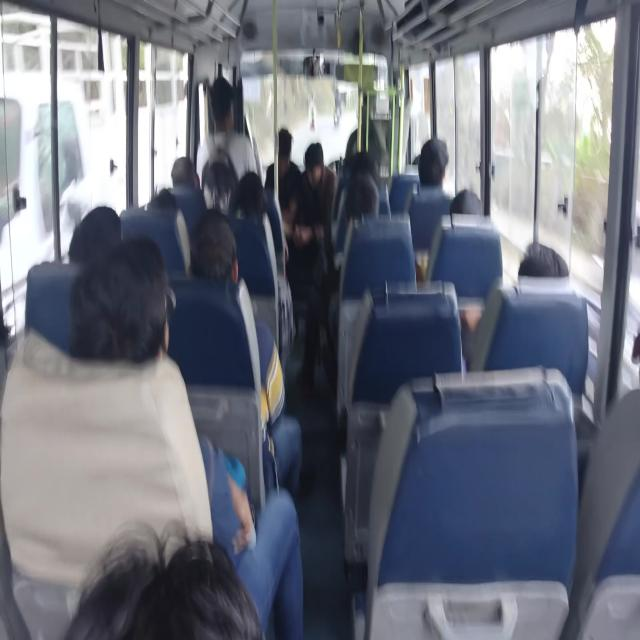person: (80, 481, 324, 640), (77, 240, 146, 348), (513, 214, 564, 288), (413, 138, 457, 208), (64, 204, 114, 262), (186, 217, 230, 272), (620, 306, 640, 412), (0, 304, 24, 385), (138, 176, 183, 218), (352, 183, 388, 235), (259, 129, 294, 179), (204, 74, 235, 129), (152, 150, 192, 192), (298, 140, 336, 183), (456, 184, 492, 227), (347, 141, 382, 185), (226, 160, 268, 189), (404, 144, 429, 180), (227, 189, 256, 218)
